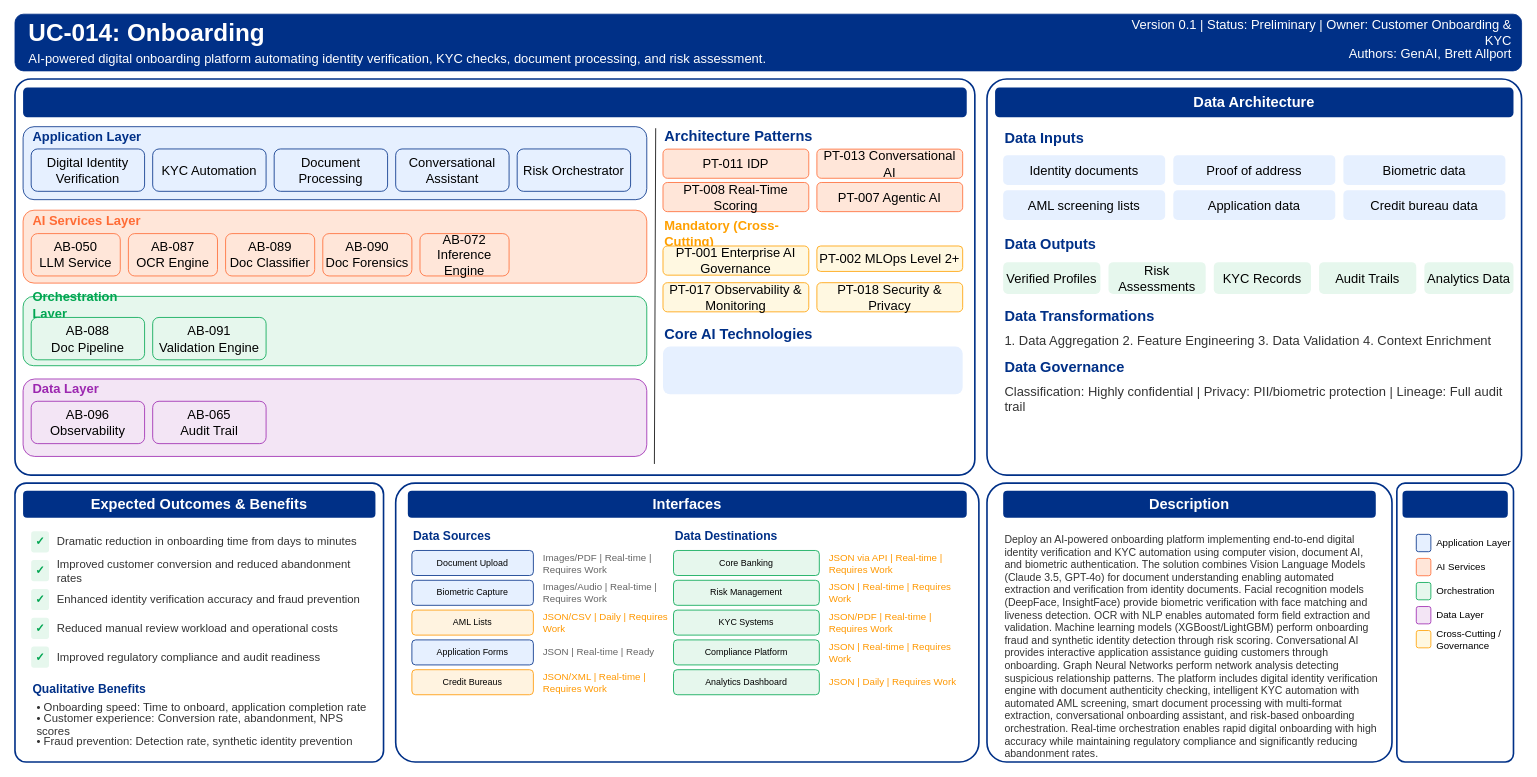
This 1537x777 diagram has some shape labels left out. The centre of each missing label's shape, as x and y in pixels:
"Claude 3.5/GPT-4o | DeepFace/InsightFace | XGBoost/LightGBM" belongs at pixel 812 370.
"Legend" belongs at pixel 1454 503.
"Solution" belongs at pixel 494 102.
